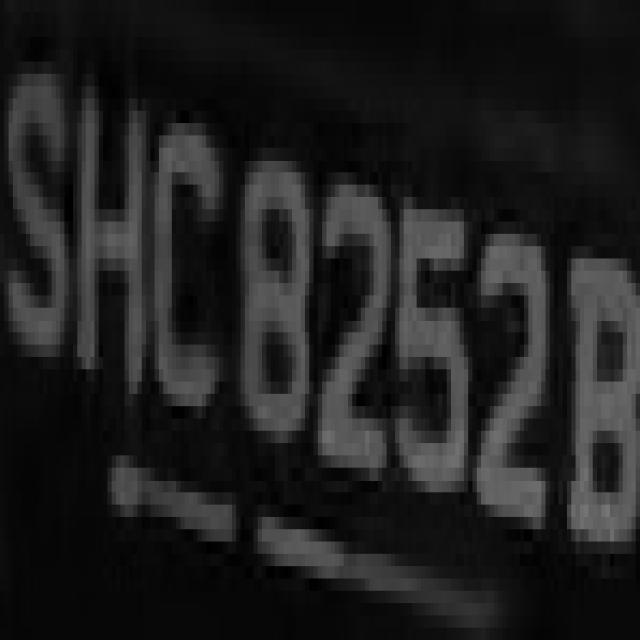2: (468, 160, 550, 578), (313, 136, 391, 542)
5: (387, 160, 472, 554)
8: (228, 111, 322, 517)
B: (554, 210, 636, 616)
C: (150, 49, 219, 468)
H: (73, 37, 155, 431)
S: (4, 12, 73, 406)
